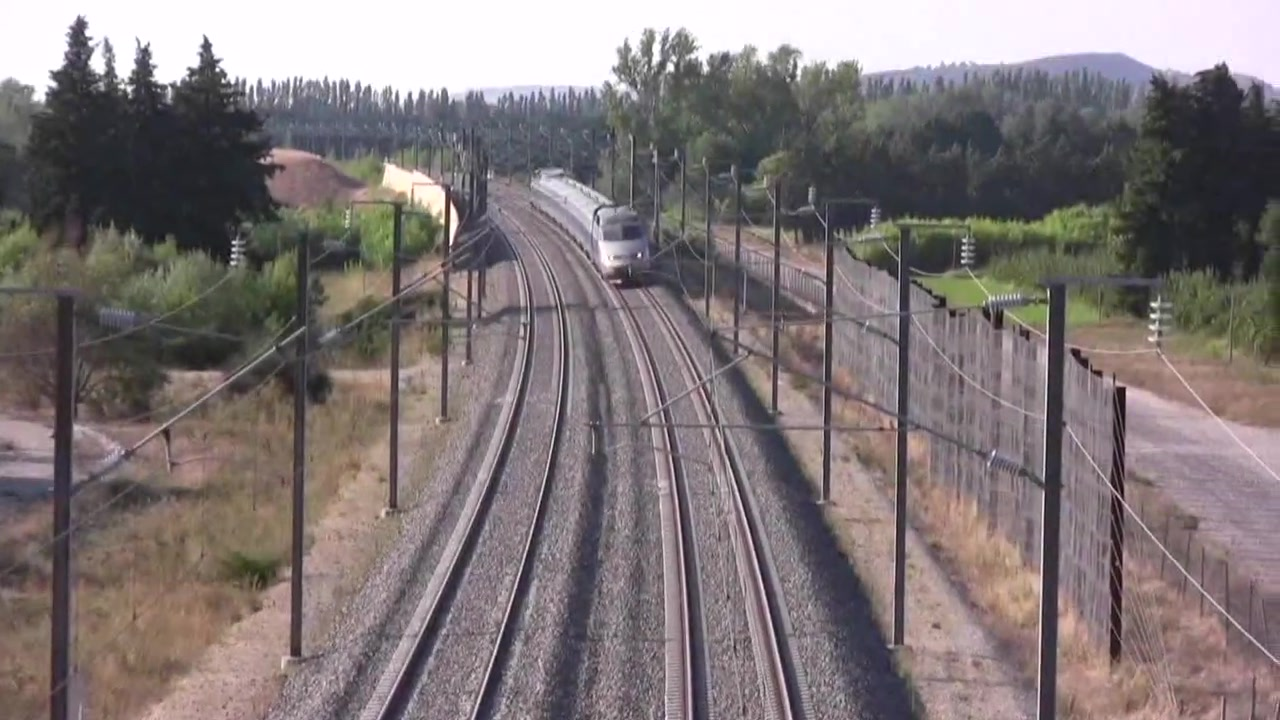train: (524, 157, 655, 288)
